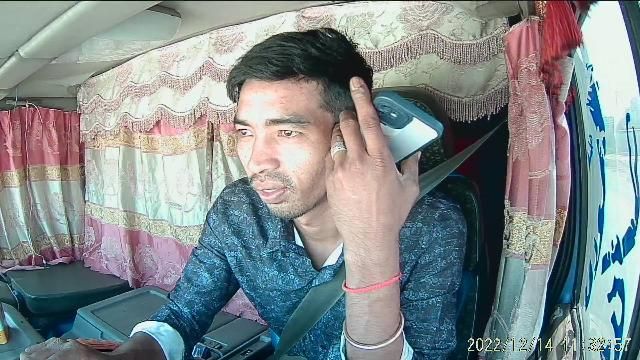PhoneUse: (368, 87, 447, 167)
SafeDriving: (270, 122, 308, 144), (230, 122, 258, 142)
Seatbelt: (278, 145, 482, 356)
